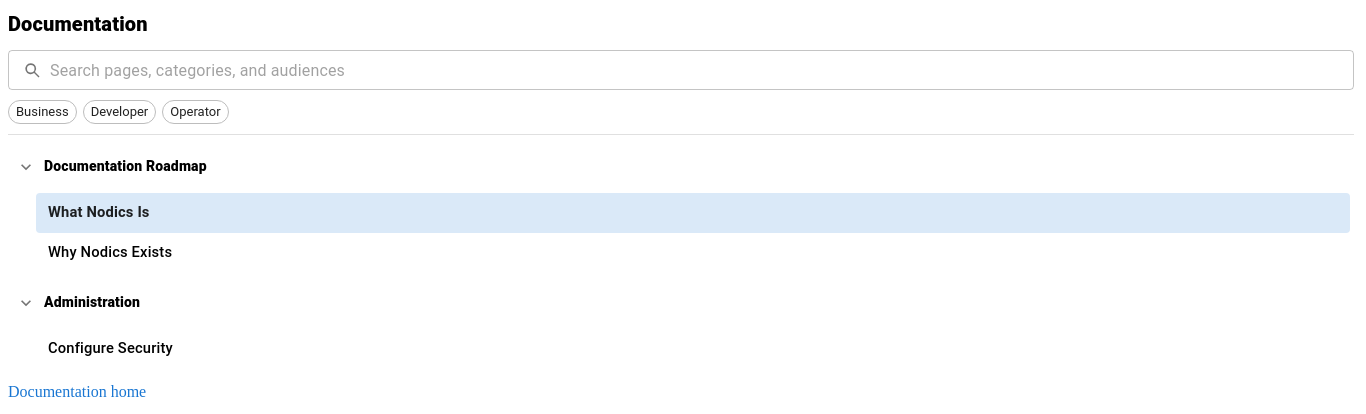
Test: DocumentationNavigationRenderer › searches bounded CMS navigation metadata and rejects unsafe routes
The image size is (1366, 414).
Type "security" into the field named "Search documentation" at (702, 70), box [50,50,1354,90]
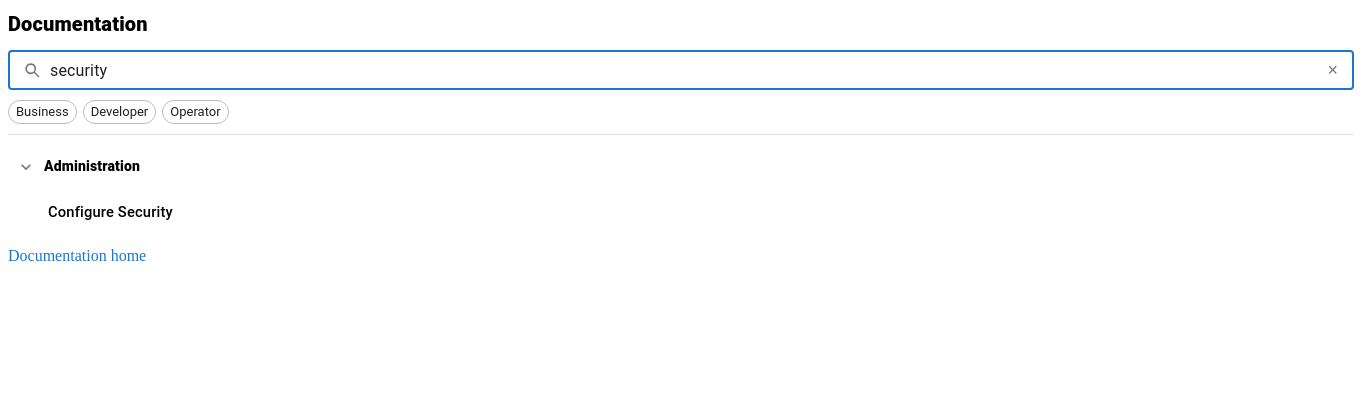
expect the link "Configure Security" is shown: met, box [48,203,173,221]
expect the link "What Nodics Is" is gone: met
